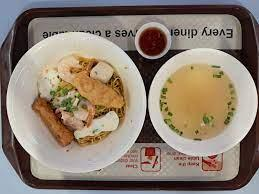Braised Crucian Carp: (5, 32, 144, 172), (148, 47, 255, 157)
